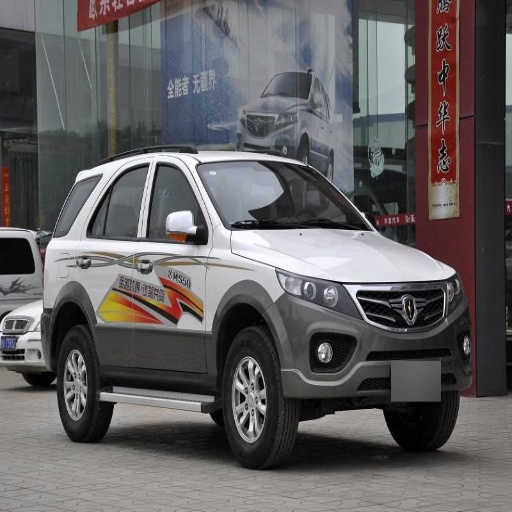front_bumper: (281, 277, 476, 403)
front_right_door: (135, 159, 209, 373)
front_right_light: (278, 271, 343, 309)
